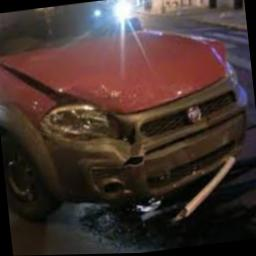Bonnet: (0, 29, 225, 111)
Bumper: (44, 78, 246, 205)
Light: (38, 105, 121, 140)
